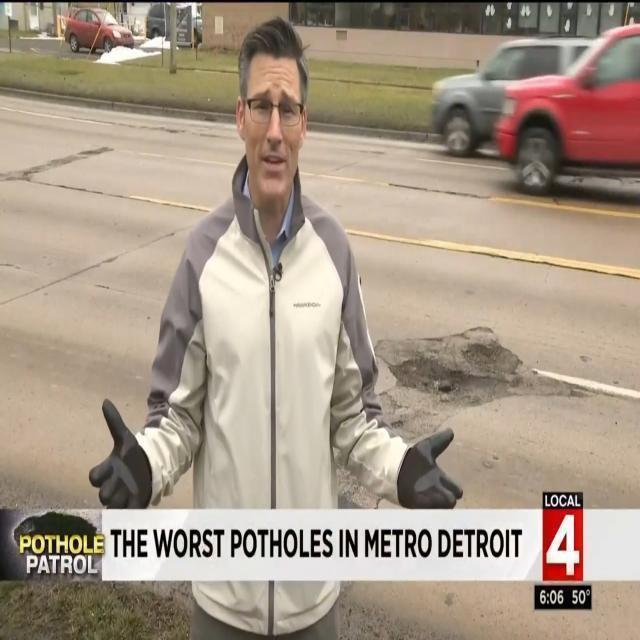Pothole: (374, 314, 598, 433)
